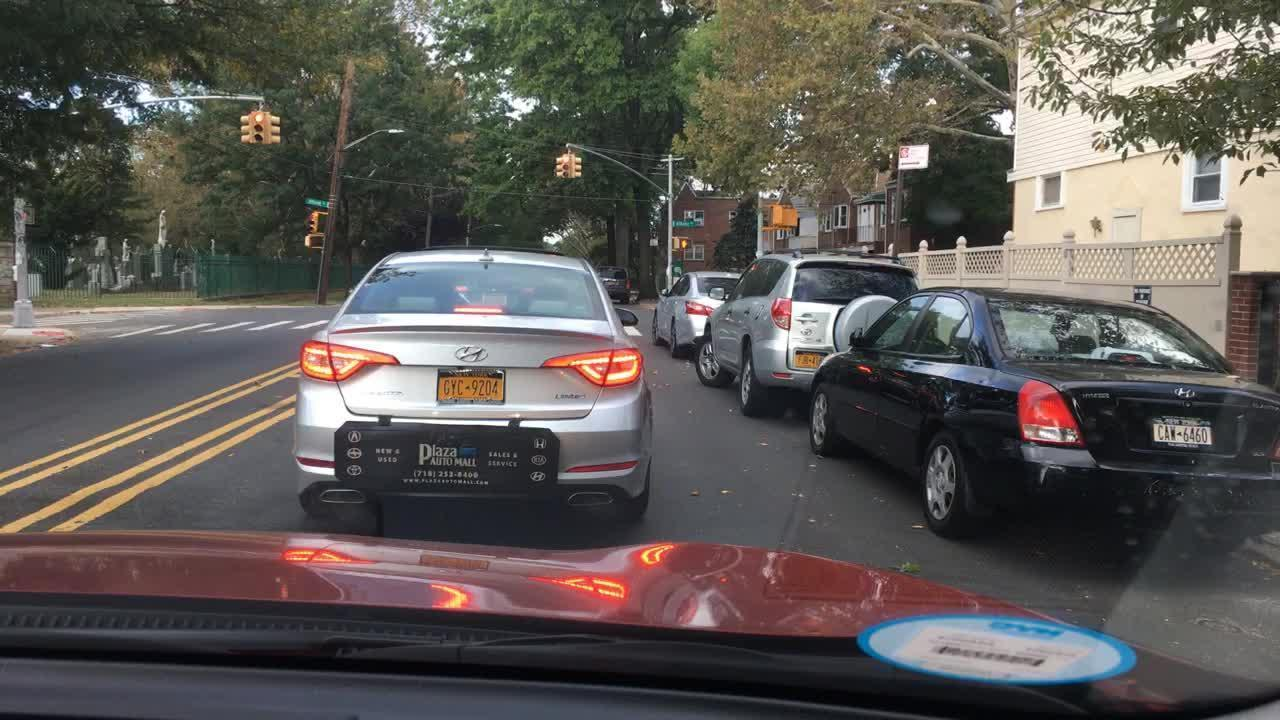Hyundai: (452, 335, 499, 377), (1169, 383, 1203, 403)
